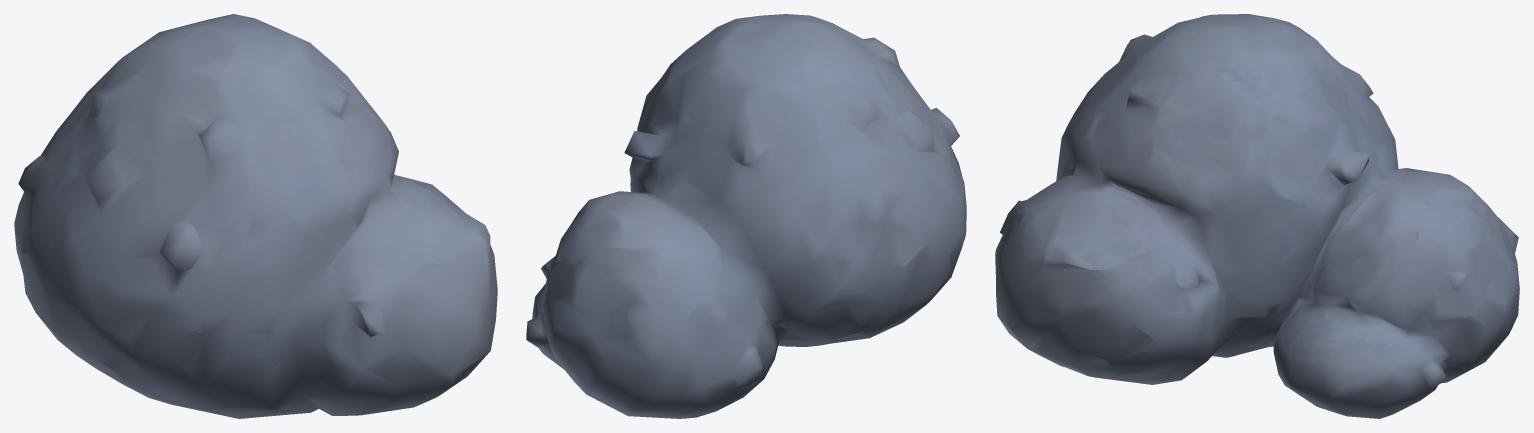
Rendered from camp_boulders-DX0PG56r.glb.
3 renders of one model, left to right at view 1: azimuth 30°, elevation 25°; view 2: azimuth 150°, elevation 25°; view 3: azimuth 270°, elevation 25°, orthographic. The views are drawn at different scales.
Visible parts, largest first — view 1: tripo_node_ffd4bb33-526f-439b-934e-a40dd968d785; view 2: tripo_node_ffd4bb33-526f-439b-934e-a40dd968d785; view 3: tripo_node_ffd4bb33-526f-439b-934e-a40dd968d785.
Boxes of the visible parts, x1,y1,x2,y2 form: tripo_node_ffd4bb33-526f-439b-934e-a40dd968d785: (14,14,497,418); tripo_node_ffd4bb33-526f-439b-934e-a40dd968d785: (526,14,966,418); tripo_node_ffd4bb33-526f-439b-934e-a40dd968d785: (995,14,1519,418).
Size of the model in its own units: 0.7617 by 0.7 by 1.
1 material, 1 textured.
